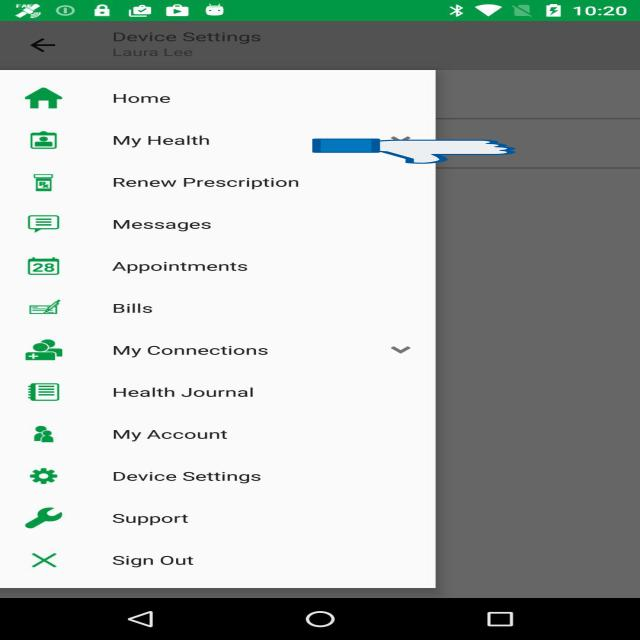obstruction: (312, 138, 516, 164)
